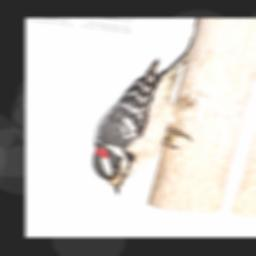Woodpecker: (79, 53, 212, 203)
